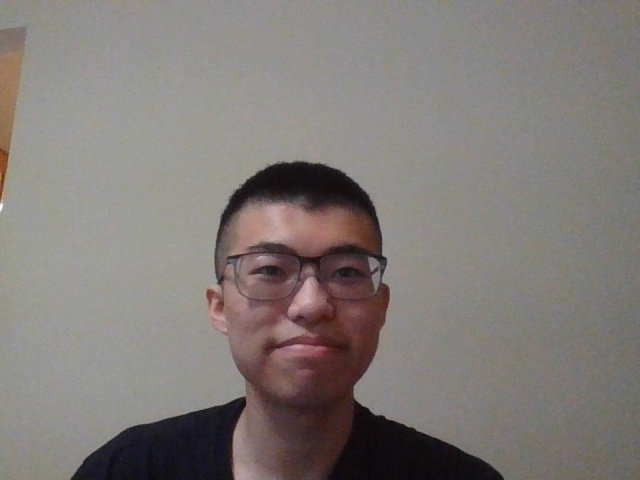happy: (206, 159, 392, 402)
